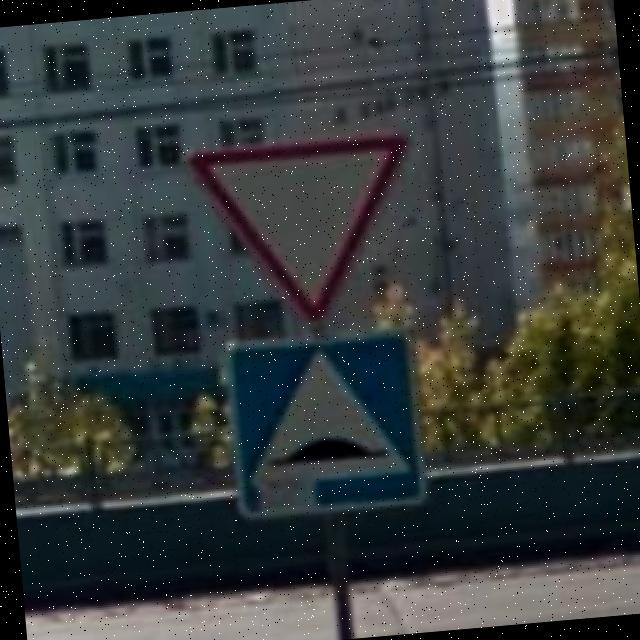Ustap pierwszenstwa: (184, 129, 424, 330)
